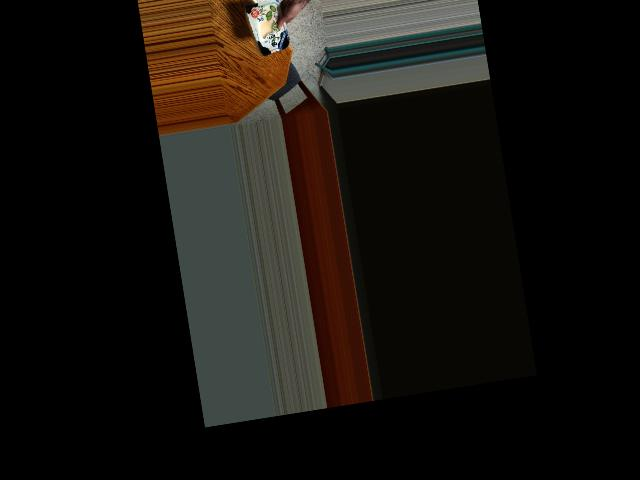cheese: (248, 4, 291, 58)
